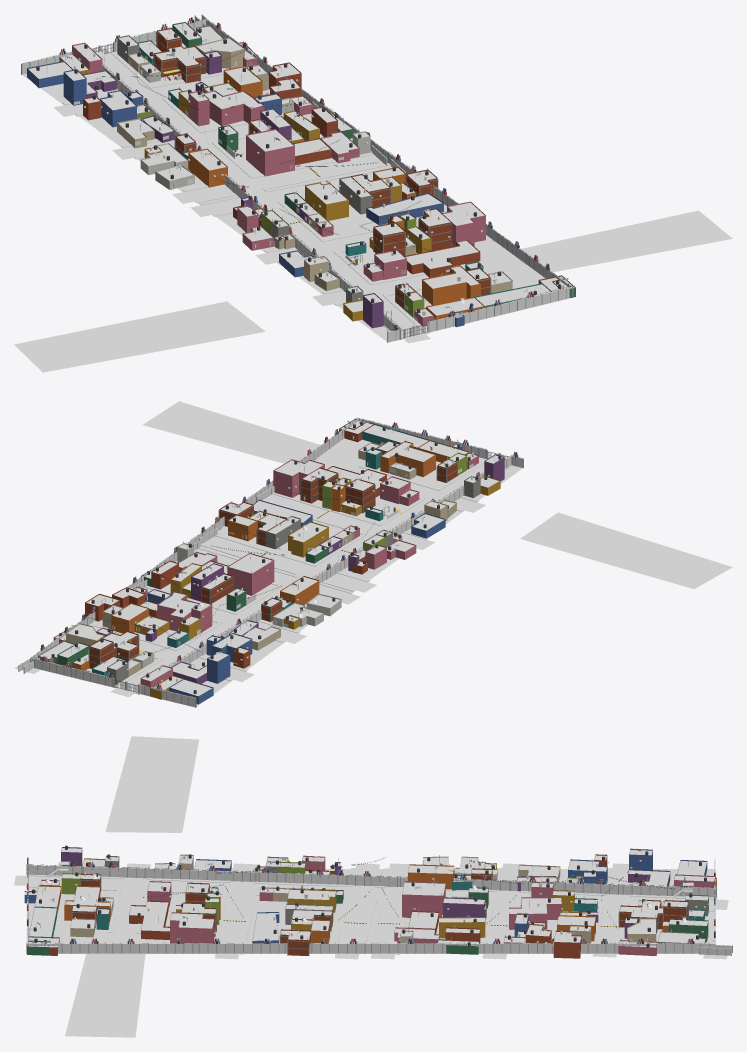
The model's file is la_gotera.glb.
The picture shows the model from 3 angles, top to bottom: view 1: azimuth 30°, elevation 25°; view 2: azimuth 150°, elevation 25°; view 3: azimuth 270°, elevation 25°; orthographic projection. The views are drawn at different scales.
Visible parts, largest first — view 1: Verde_0, Verde_1, Calle_0_0, Piso, Calle_17_0, Casa_30, Casa_127, Casa_191, Casa_138, Casa_229, Casa_6, Casa_189 (+34 smaller); view 2: Verde_0, Verde_1, Piso, Calle_0_0, Calle_13_0, Calle_14_0, Casa_30, Casa_191, Casa_6, Casa_164, Casa_138, Casa_37 (+33 smaller); view 3: Verde_0, Verde_1, Piso, Calle_0_0, Calle_13_0, Calle_14_0, Calle_11_0, Calle_17_0, Casa_30, Casa_6, Casa_127, Calle_18_0 (+40 smaller).
Part boxes in pixels (<box>): Verde_0: <box>14,301,265,372</box>; Verde_1: <box>489,210,732,279</box>; Calle_0_0: <box>93,48,430,343</box>; Piso: <box>22,42,571,342</box>; Calle_17_0: <box>231,151,396,195</box>; Casa_30: <box>246,129,294,176</box>; Casa_127: <box>404,240,480,277</box>; Casa_191: <box>422,264,480,305</box>; Casa_138: <box>204,90,264,125</box>; Casa_229: <box>153,46,206,83</box>; Casa_6: <box>442,201,485,246</box>; Casa_189: <box>366,192,443,225</box>; Verde_0: <box>520,512,732,588</box>; Verde_1: <box>143,401,353,469</box>; Piso: <box>41,438,522,707</box>; Calle_0_0: <box>110,457,512,697</box>; Calle_13_0: <box>247,491,409,534</box>; Calle_14_0: <box>189,534,343,583</box>; Casa_30: <box>227,552,274,595</box>; Casa_191: <box>380,440,435,477</box>; Casa_6: <box>273,459,324,497</box>; Casa_164: <box>288,521,328,557</box>; Casa_138: <box>157,591,198,631</box>; Casa_37: <box>300,467,338,503</box>; Verde_0: <box>105,736,198,832</box>; Verde_1: <box>65,940,145,1037</box>; Piso: <box>26,869,715,953</box>; Calle_0_0: <box>14,874,728,911</box>; Calle_13_0: <box>214,881,255,959</box>; Calle_14_0: <box>333,885,376,959</box>; Calle_11_0: <box>108,877,151,938</box>; Calle_17_0: <box>369,886,406,959</box>; Casa_30: <box>402,880,445,917</box>; Casa_6: <box>170,910,215,943</box>; Casa_127: <box>129,900,169,939</box>; Calle_18_0: <box>481,890,521,959</box>.
Size of what is drawn, in the model's own units: 241 by 11.15 by 243.
